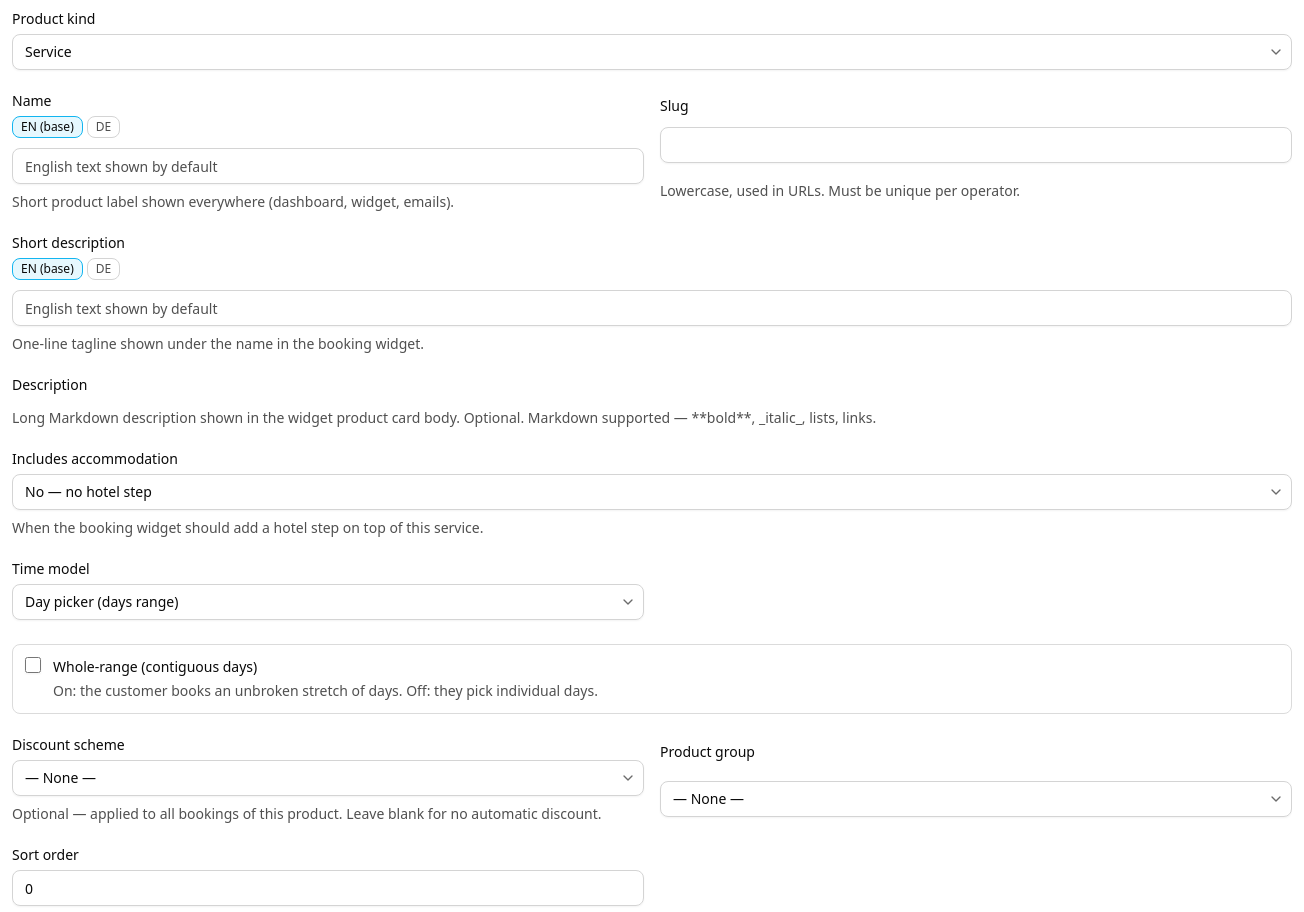
ProductForm — kind/shape/contiguous progression › clears service_time_shape when kind is switched away from service
Type "Voucher 50" into the field labelled "Name".
click(328, 166); type("Voucher 50")  # box [12,148,644,184]
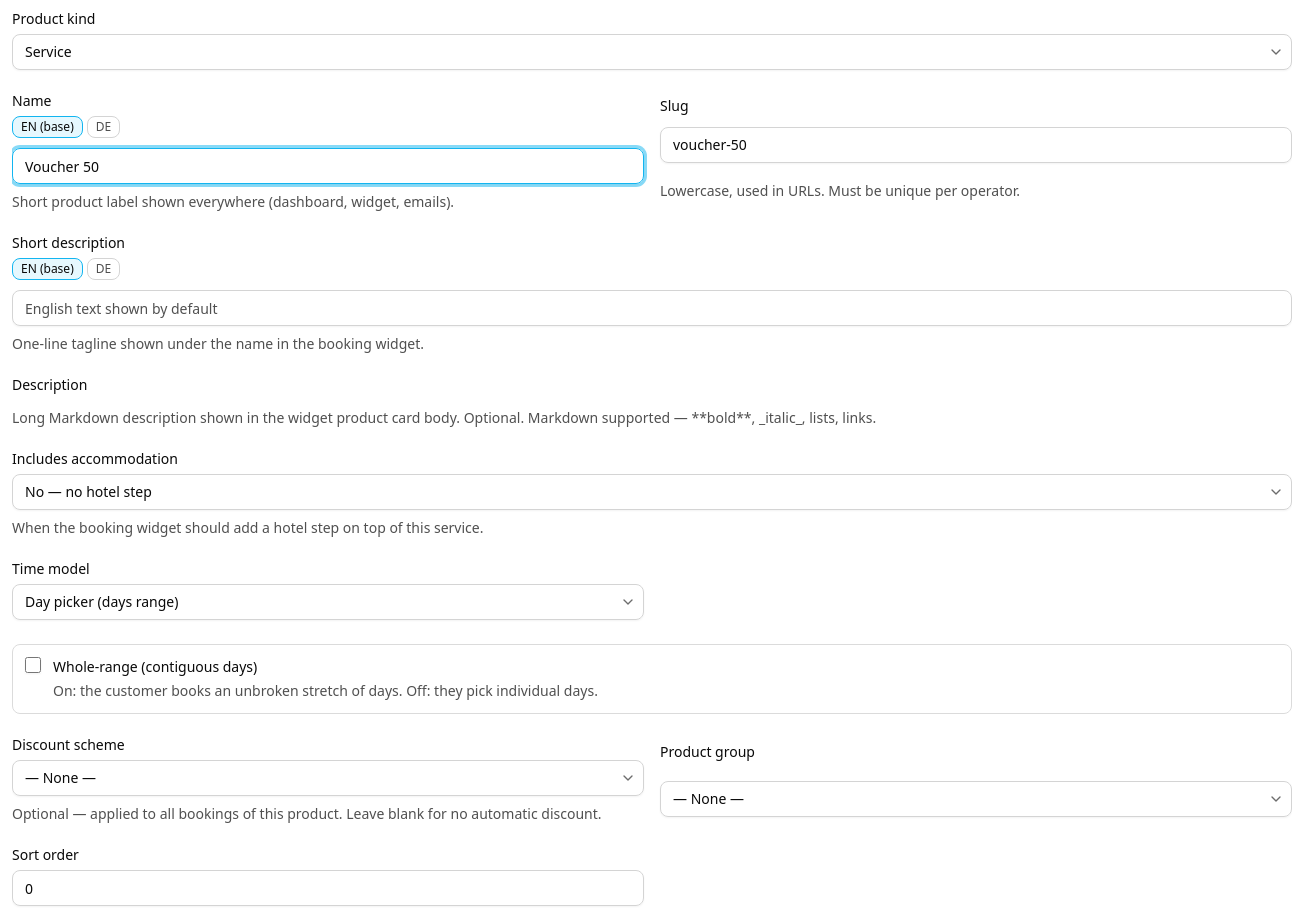
Switch to gift_card — the form clears the shape so DB CHECK holds.
Select "Gift card" in the dropdown labelled "Product kind" at (652, 52), box [12,34,1292,70]
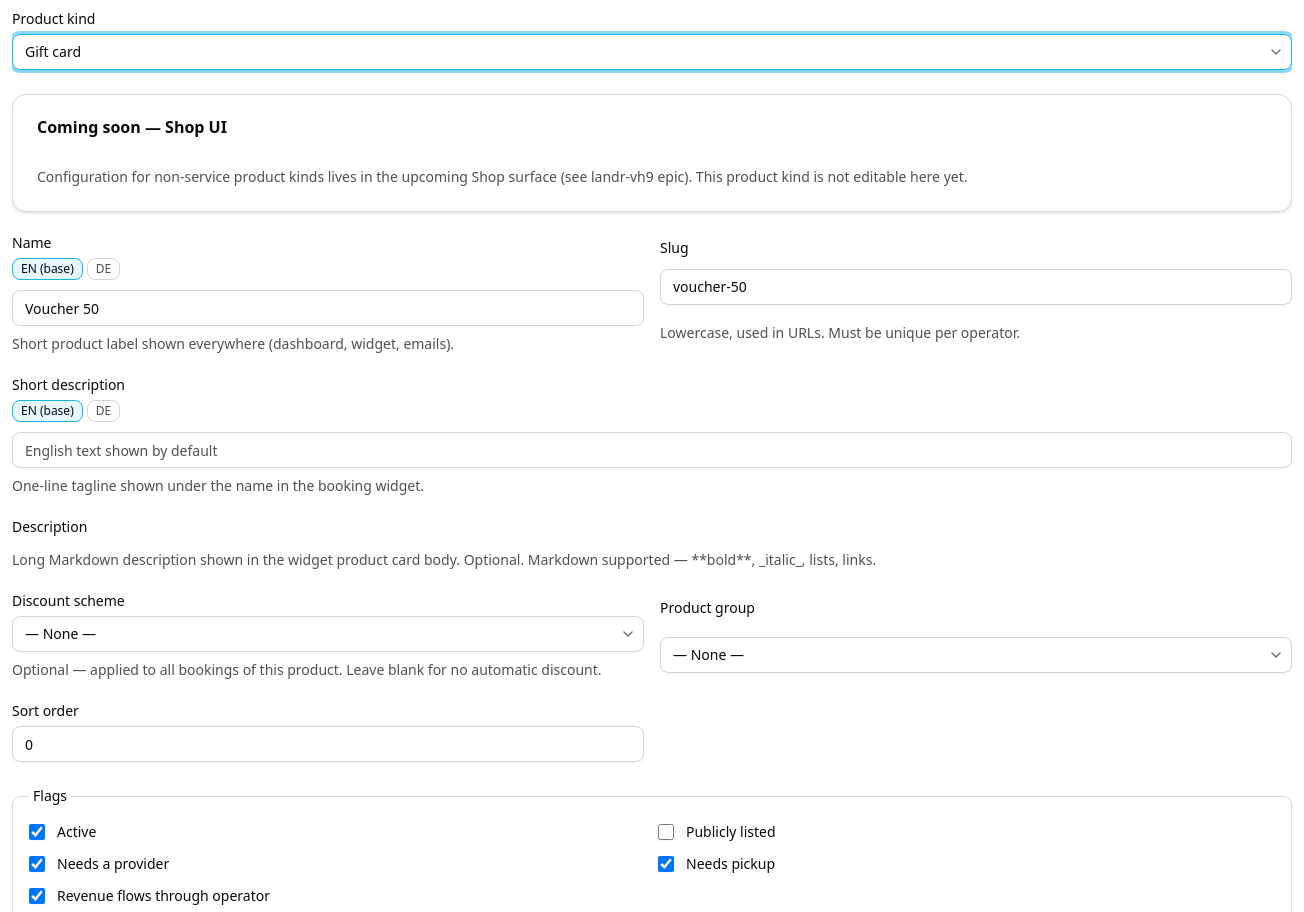
Select "Service" in the dropdown labelled "Product kind" at (652, 52), box [12,34,1292,70]
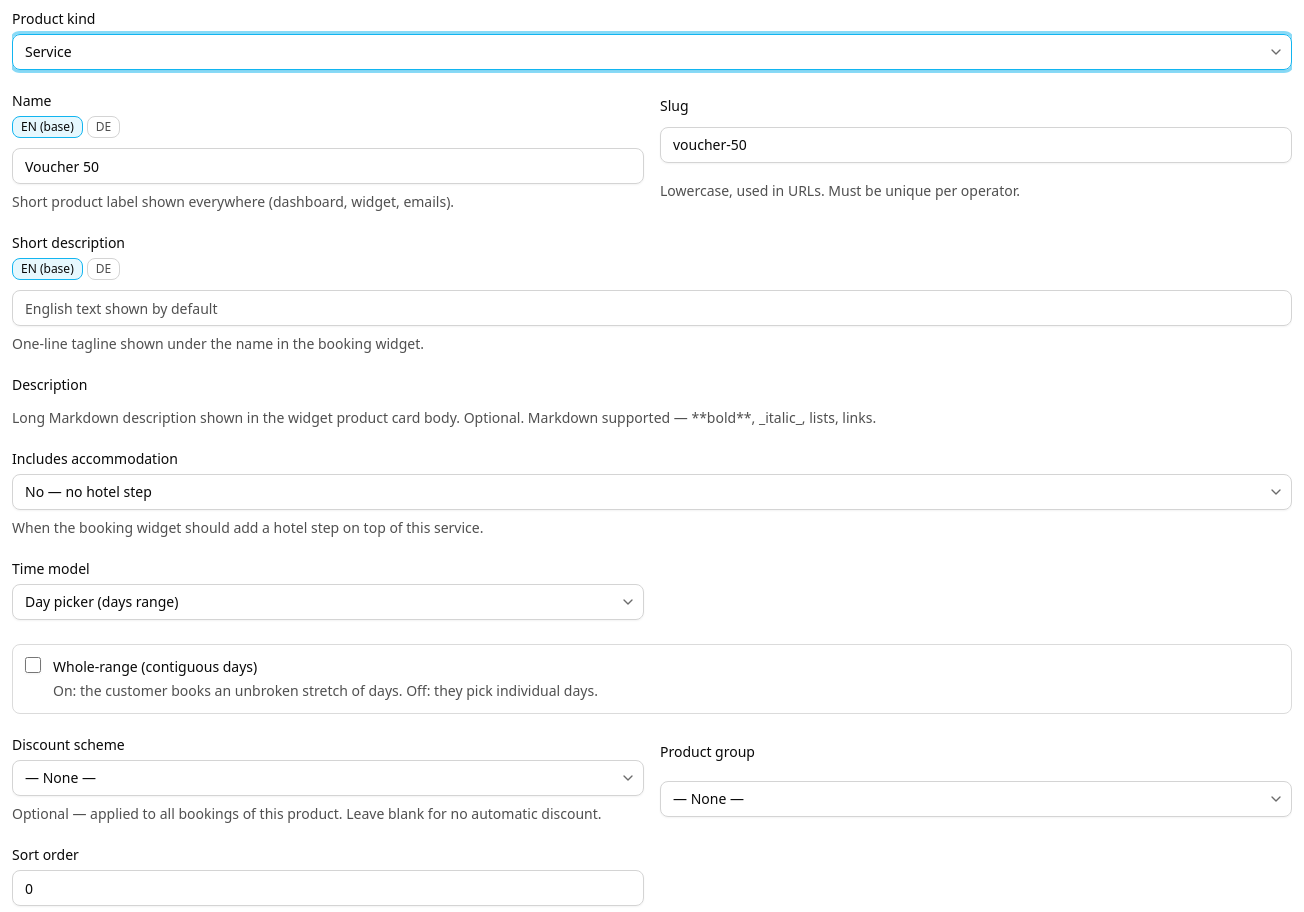
Expected: the dropdown labelled "Time model" is shown, [12,584,644,620]
